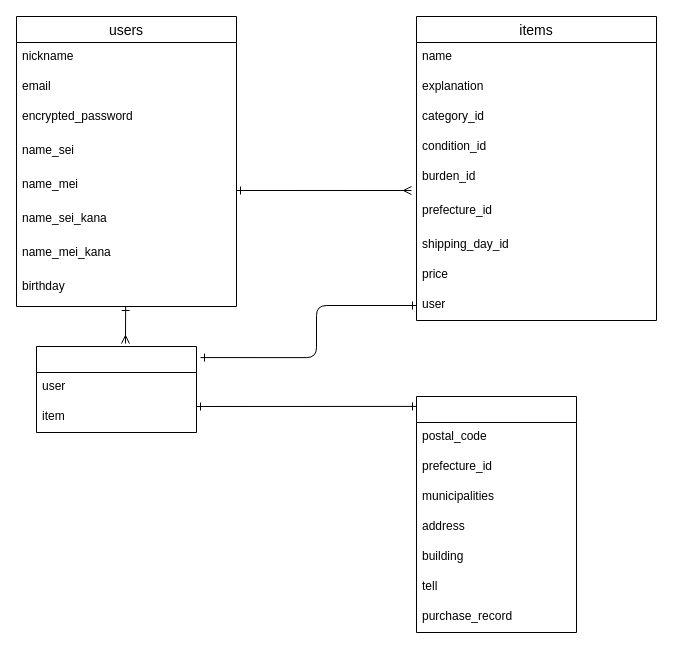
Image size: 673x649. Some labels were removed from this diagram. Each missing label, with the box of its shape:
purchase_records: (36, 346, 196, 432)
shipping_addresses: (416, 396, 576, 632)
